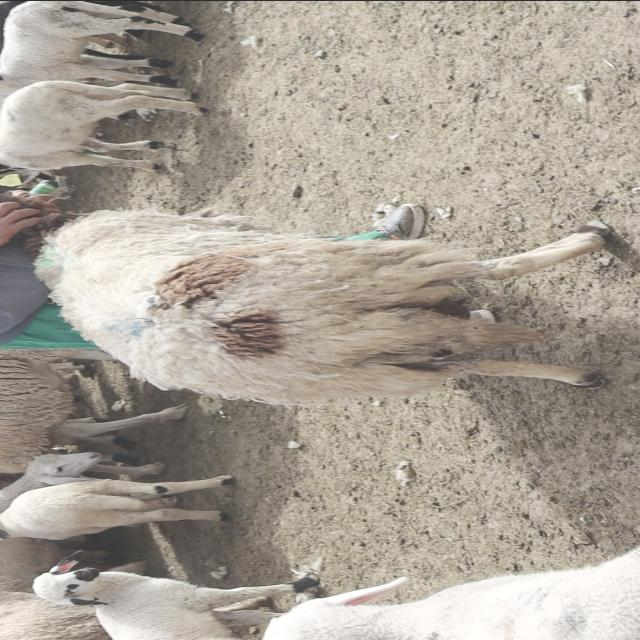Score_1: (2, 193, 610, 404)
